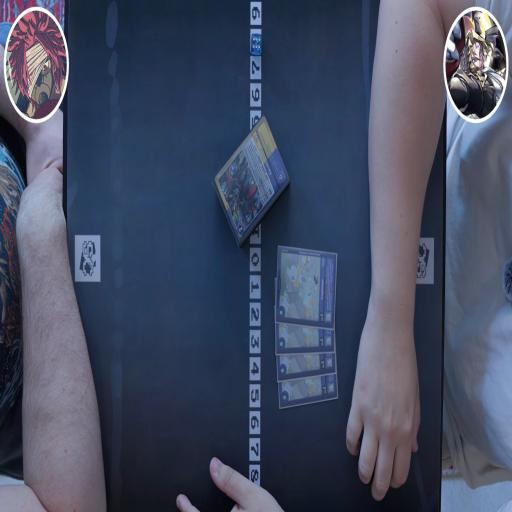card: (212, 115, 290, 247), (275, 246, 337, 329), (278, 373, 338, 409), (275, 323, 335, 354), (276, 351, 336, 381)
